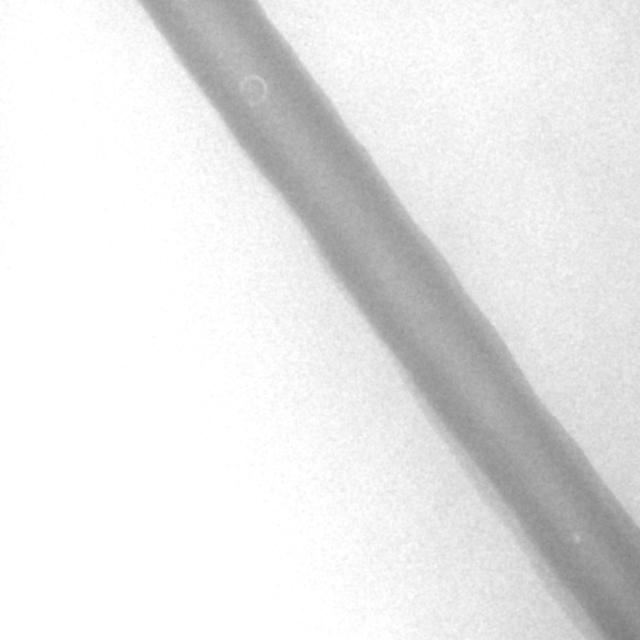air hole: (570, 529, 582, 544)
hollow bead: (237, 72, 268, 108)
